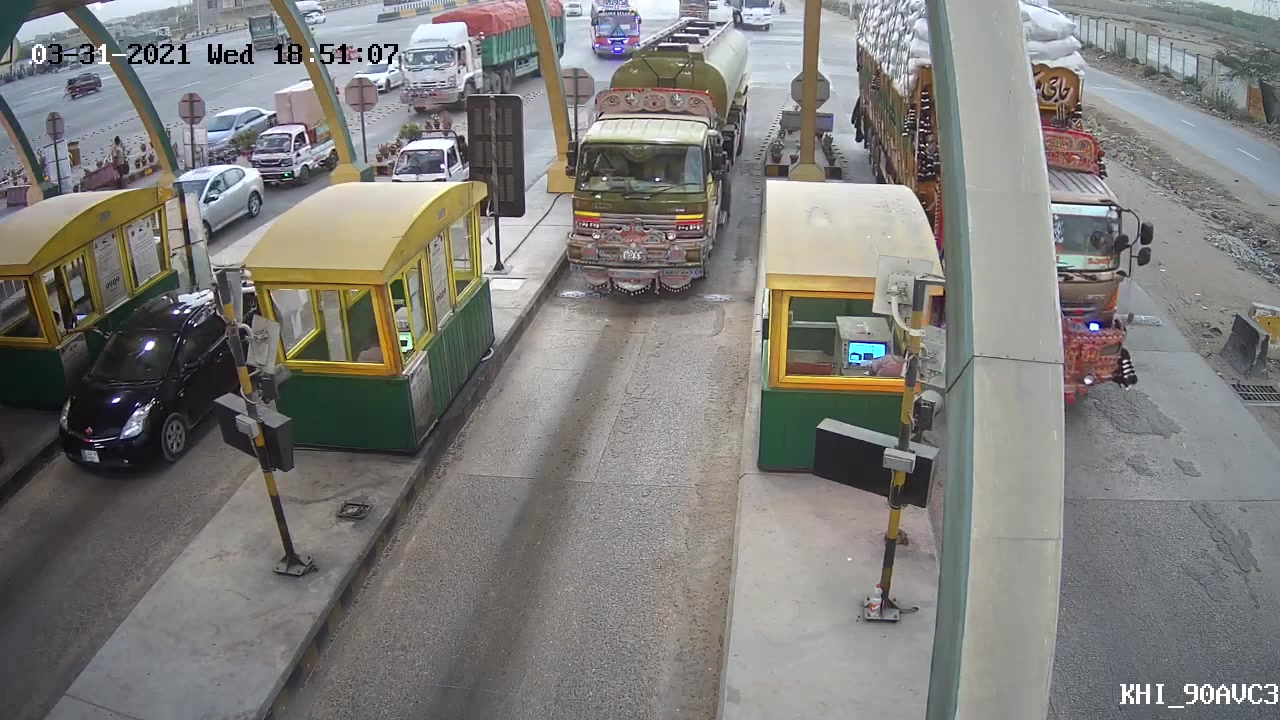F6: (547, 25, 755, 318)
